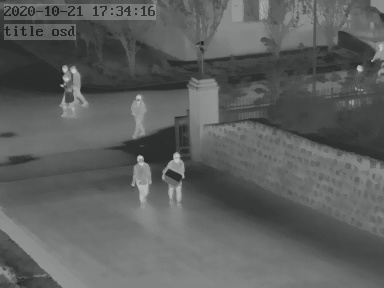person: (131, 149, 153, 209), (163, 148, 184, 207), (65, 63, 83, 111), (131, 94, 147, 136)
